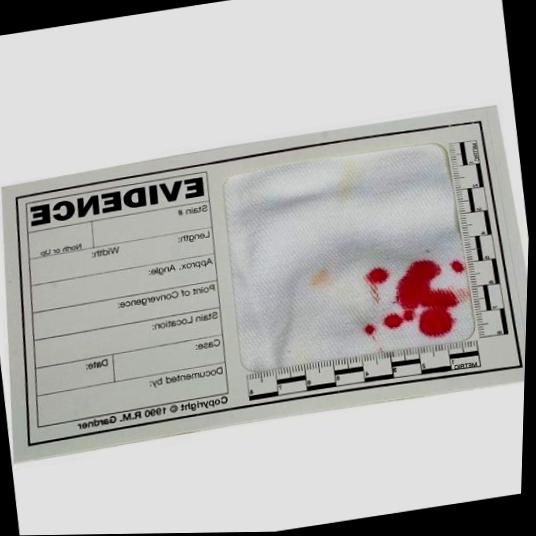Fire: (386, 261, 460, 338), (368, 268, 389, 284), (453, 261, 466, 273), (367, 325, 377, 335)
